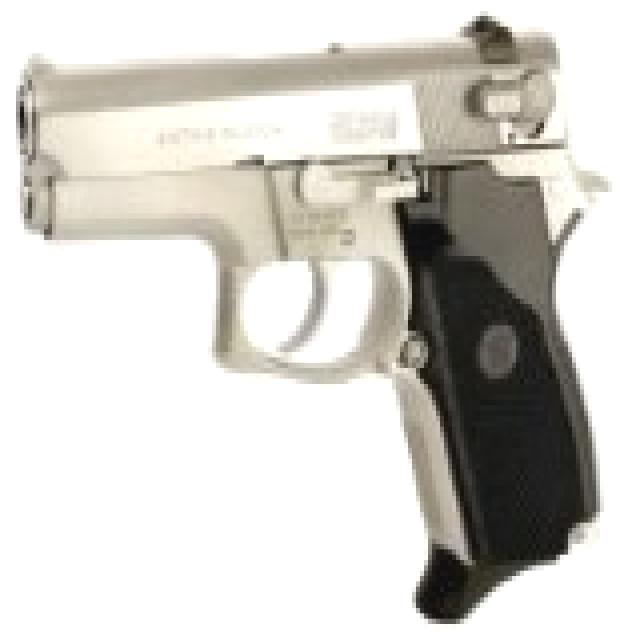pistol: (12, 11, 612, 618)
